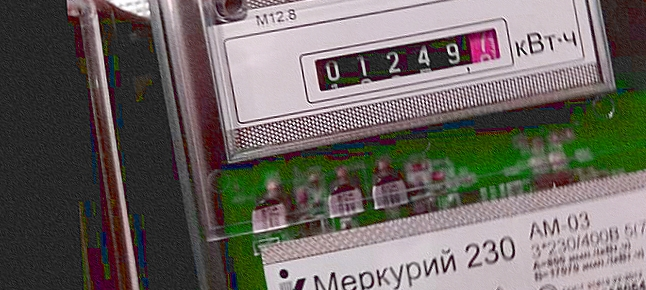0: (320, 55, 340, 82)
1: (352, 52, 368, 78)
2: (382, 48, 403, 75)
4: (413, 40, 433, 68)
7: (473, 29, 489, 53)
9: (442, 38, 462, 64)
screen: (291, 18, 528, 107)
